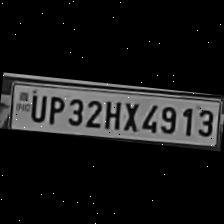1: (177, 104, 196, 138)
2: (82, 95, 104, 129)
3: (194, 105, 216, 138), (64, 94, 84, 128)
4: (138, 100, 159, 134)
9: (155, 102, 178, 135)
H: (102, 96, 122, 130)
P: (45, 92, 65, 126)
U: (26, 90, 46, 124)
X: (120, 99, 140, 134)
